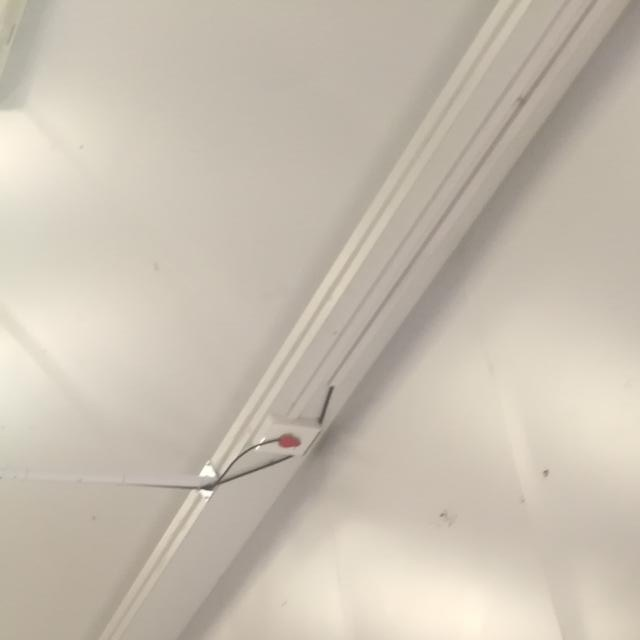fluorescent tube: (269, 437, 640, 640)
